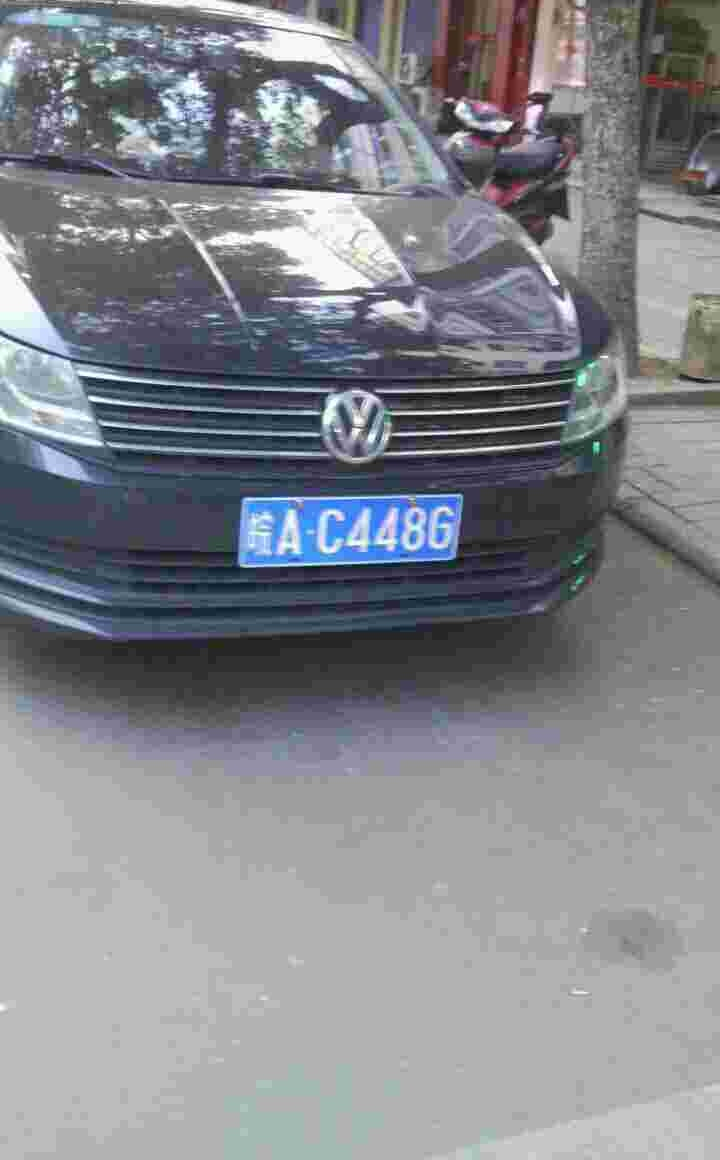license_plate: (248, 502, 471, 567)
